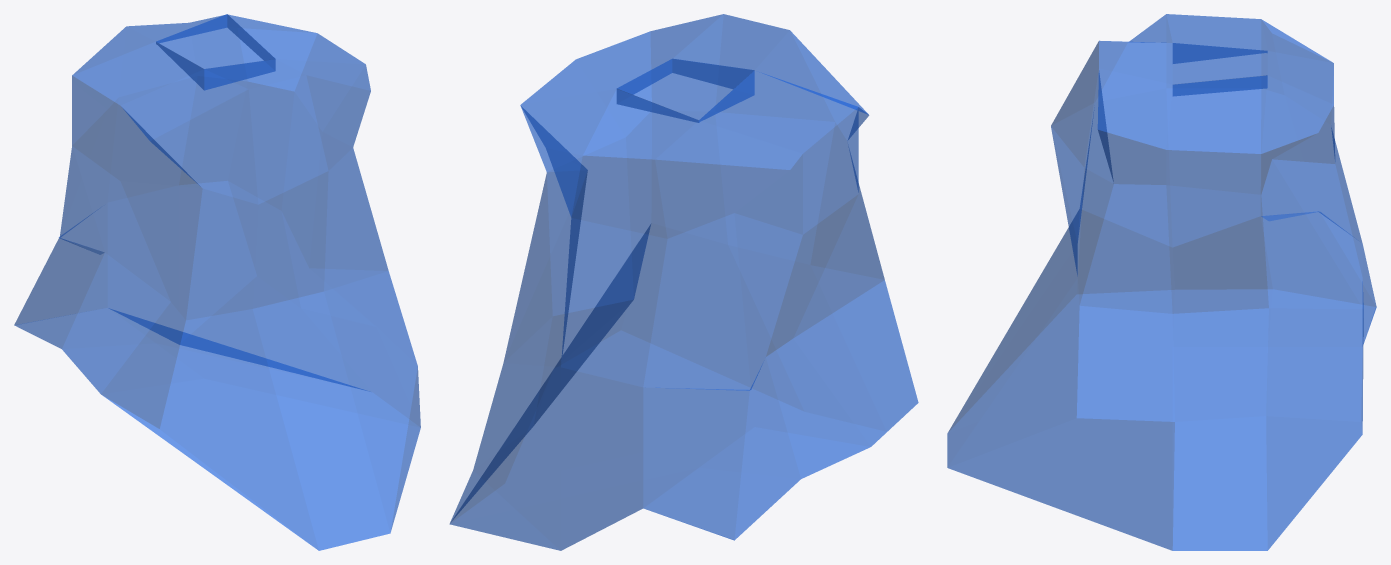
File: Iceberg.glb
The picture shows the model from 3 angles, left to right: view 1: azimuth 30°, elevation 25°; view 2: azimuth 150°, elevation 25°; view 3: azimuth 270°, elevation 25°; orthographic projection. The views are drawn at different scales.
Visible parts, largest first — view 1: Cube; view 2: Cube; view 3: Cube.
Part boxes in pixels (x1,y1,x2,y2): Cube: (14,14,420,550); Cube: (449,14,918,550); Cube: (947,14,1376,550).
Bounding box in the file's own units: 4.03 × 5.04 × 4.78.
